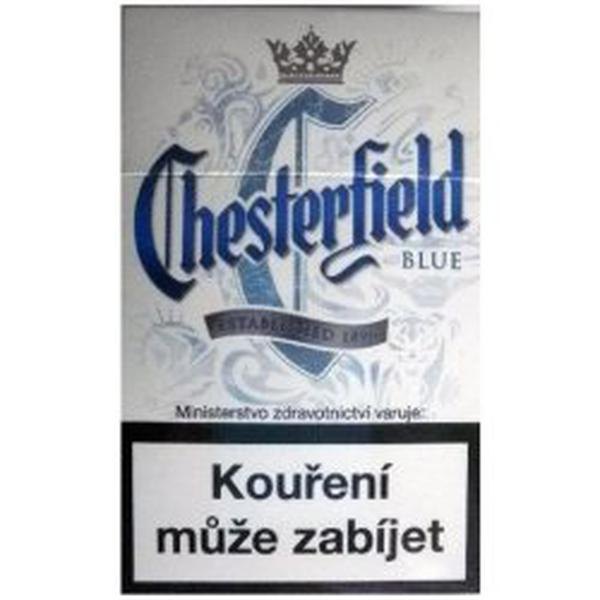chesterfield_blue: (123, 9, 478, 594)
